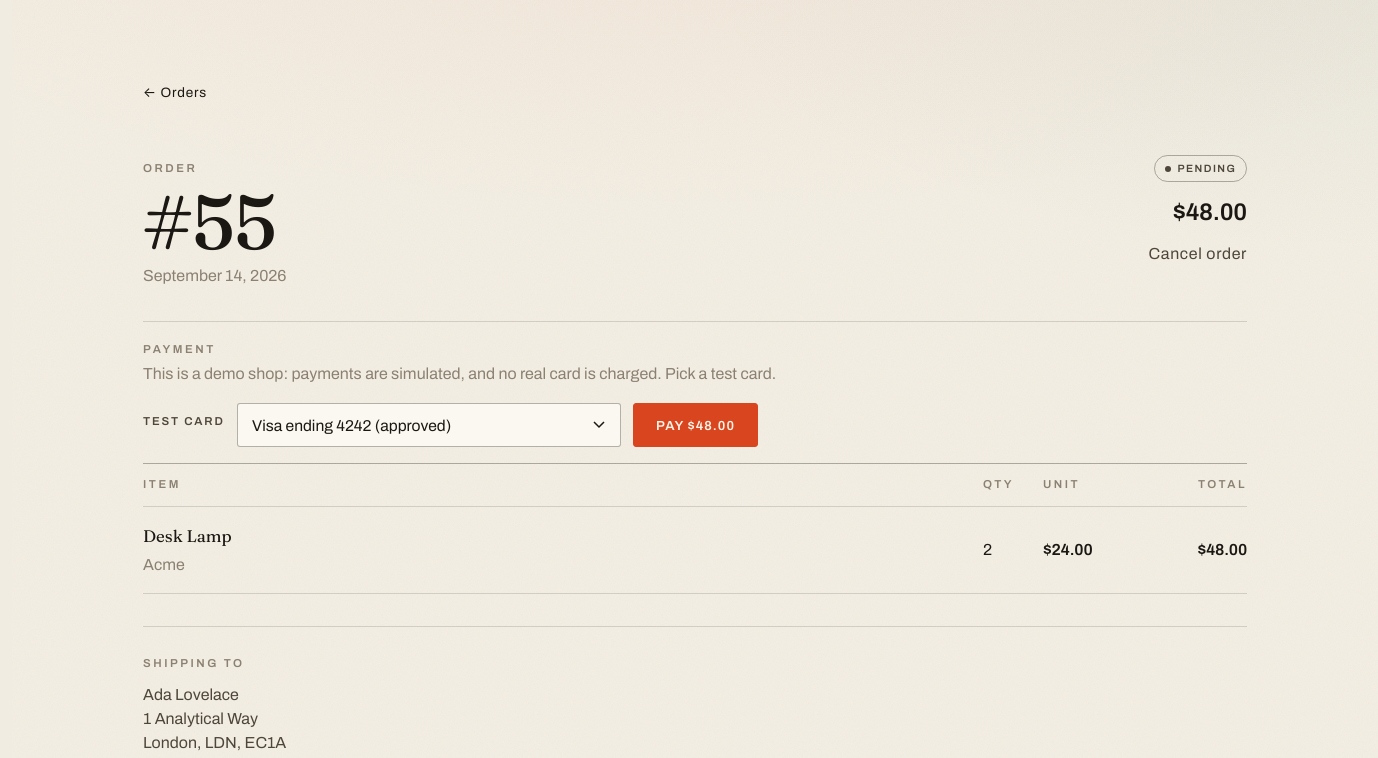
OrderDetailPage › pays a pending order with the chosen test card, and shows it paid
Select "Mastercard ending 4444 (approved)" in the dropdown labelled "Test card" at (429, 425), box [237,403,621,448]
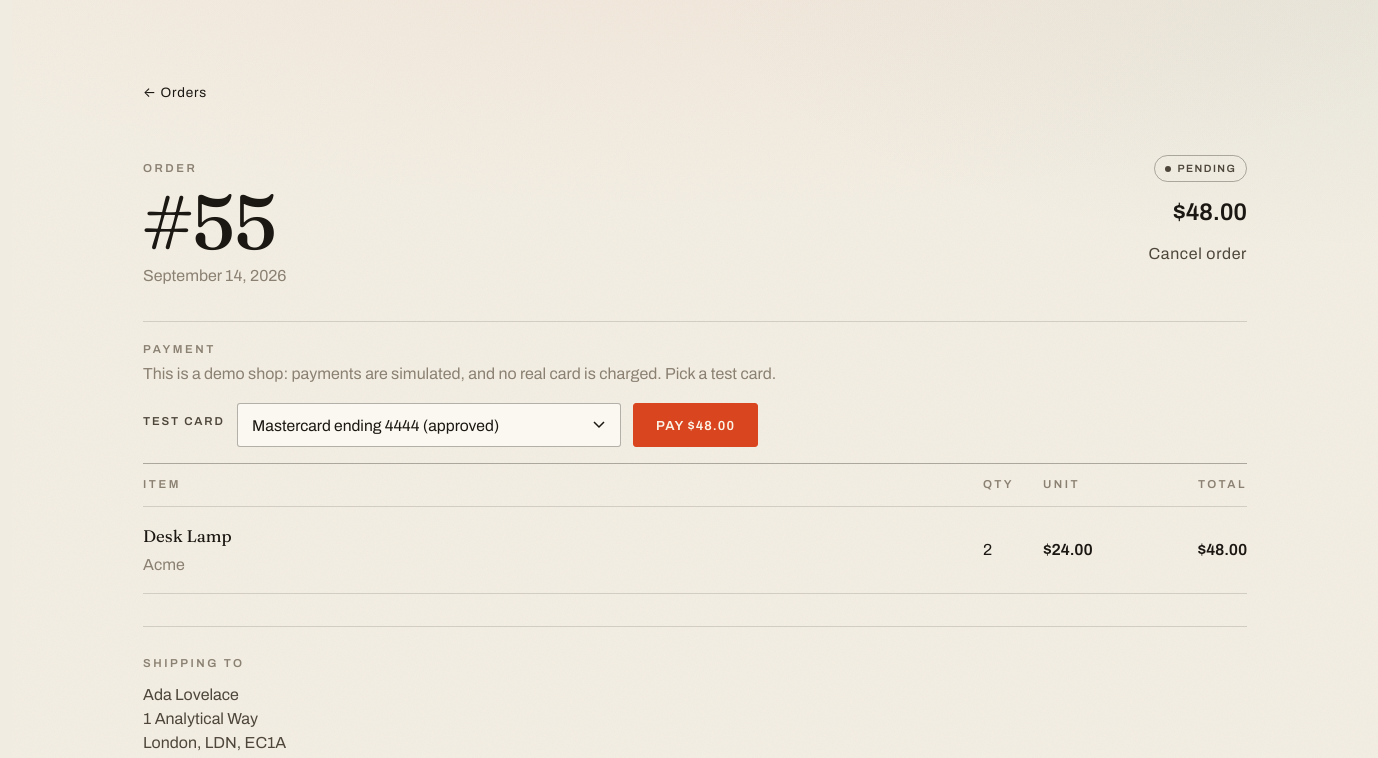
Click the button "Pay $48.00" at (696, 425), box [633,403,758,447]
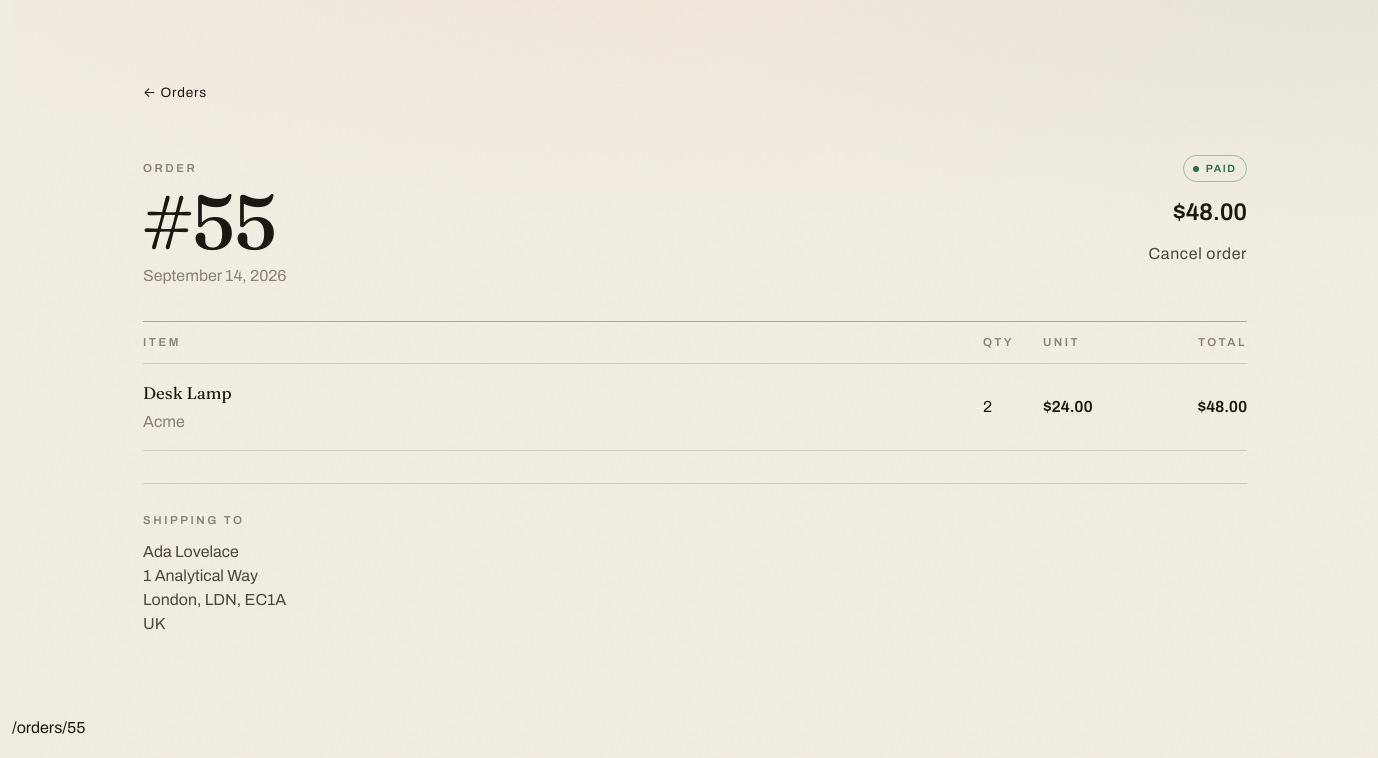
Result: the text "paid" is shown at [1183,155,1247,182]
Result: the heading "Pay" is gone
